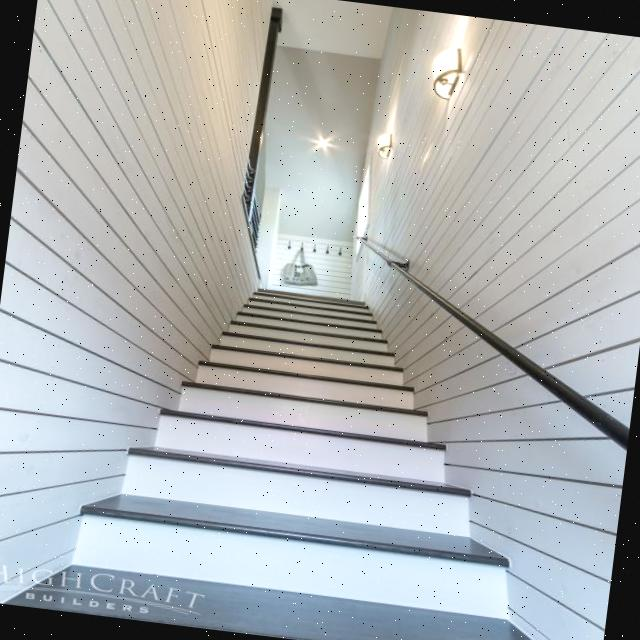stairs: (2, 259, 612, 640)
